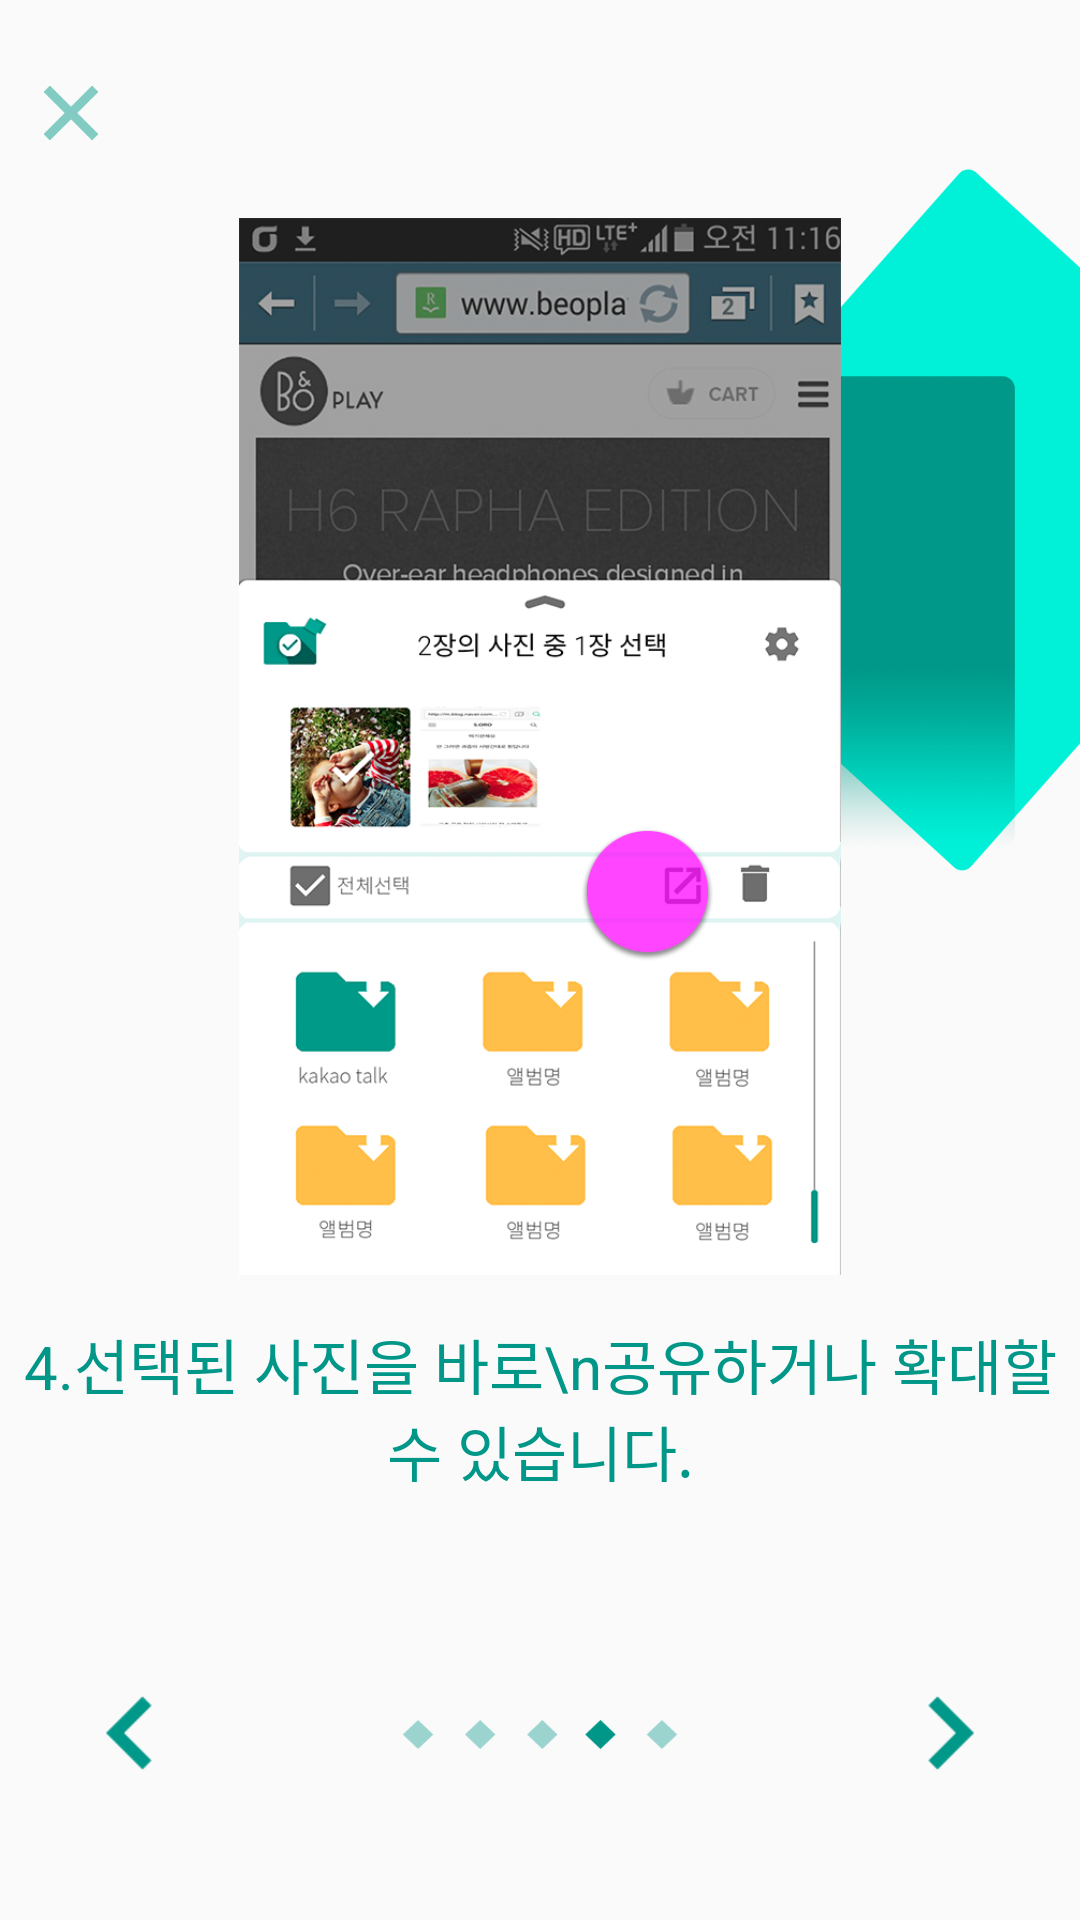

Icon click points for this 1080*1920 phone screenshot, format (x=x, y=y):
before: (x=129, y=1733)
next: (x=951, y=1733)
